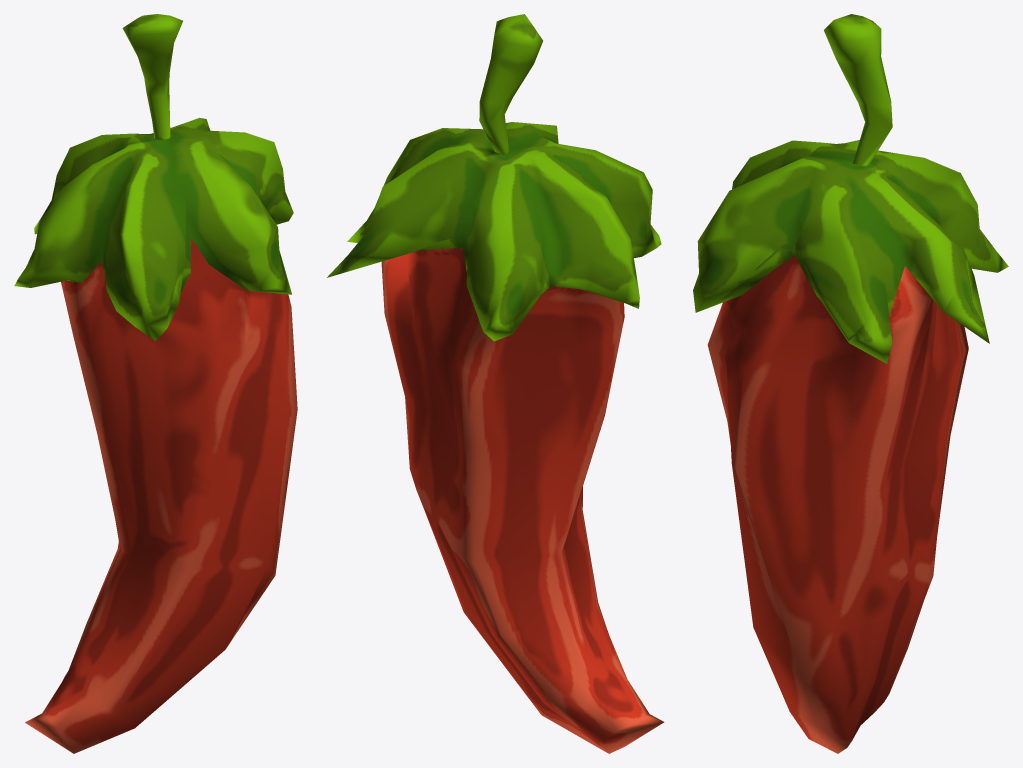
Rendered from Pepper_01.fbx.
3 renders of one model, left to right at view 1: azimuth 30°, elevation 25°; view 2: azimuth 150°, elevation 25°; view 3: azimuth 270°, elevation 25°, orthographic. The views are drawn at different scales.
Parts seen in each view (by area): view 1: Pepper_01; view 2: Pepper_01; view 3: Pepper_01.
Boxes of the visible parts, x1,y1,x2,y2 form: Pepper_01: [14, 14, 297, 753]; Pepper_01: [327, 14, 664, 753]; Pepper_01: [693, 14, 1008, 753].
Bounding box in the file's own units: 30.35 × 70.7 × 26.38.
